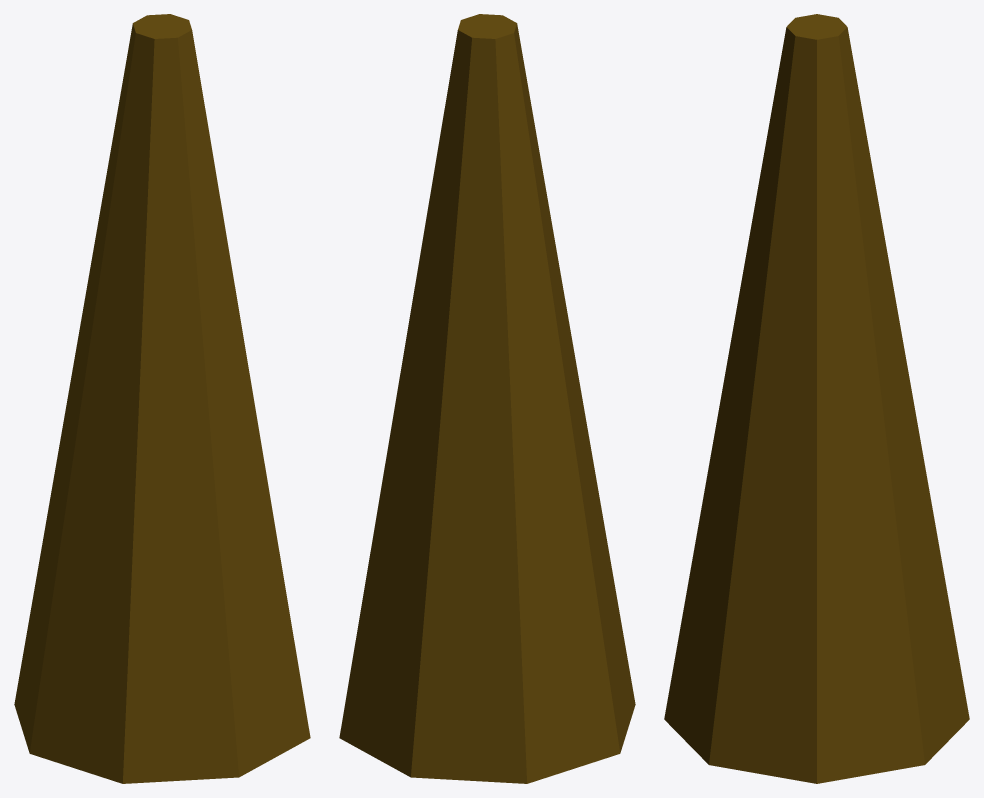
File: branch.glb
3 renders of one model, left to right at view 1: azimuth 30°, elevation 25°; view 2: azimuth 150°, elevation 25°; view 3: azimuth 270°, elevation 25°, orthographic.
Parts seen in each view (by area): view 1: Cone; view 2: Cone; view 3: Cone.
Boxes of the visible parts, box(x1,y1,x2,y2) form: Cone: box(14, 14, 310, 783); Cone: box(339, 14, 635, 783); Cone: box(664, 14, 969, 783).
Bounding box in the file's own units: 2 × 5 × 2.
